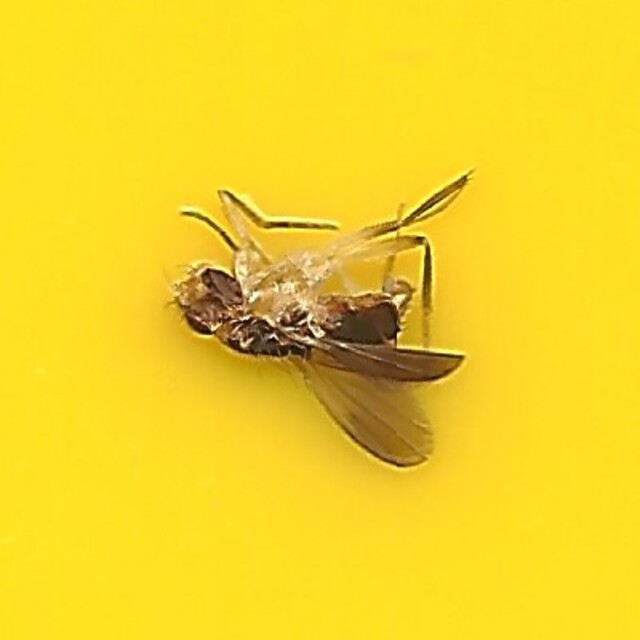Brachycera: (160, 167, 480, 473)
